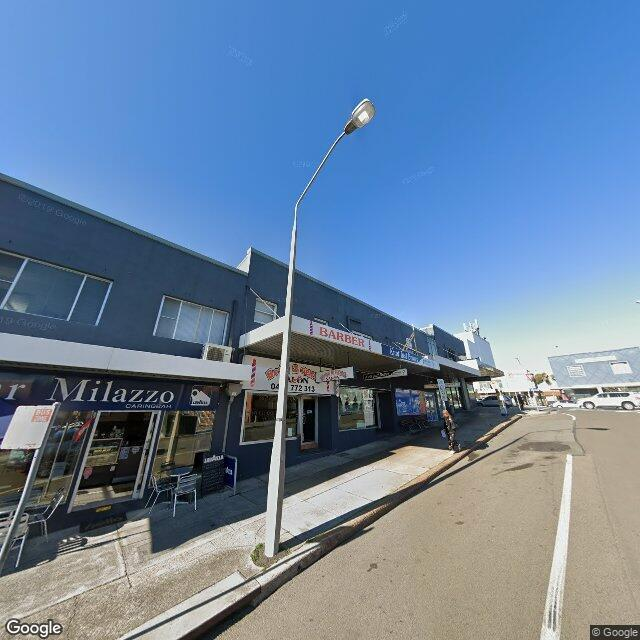steel-pole: (264, 207, 298, 558)
streetlight: (295, 97, 377, 208)
